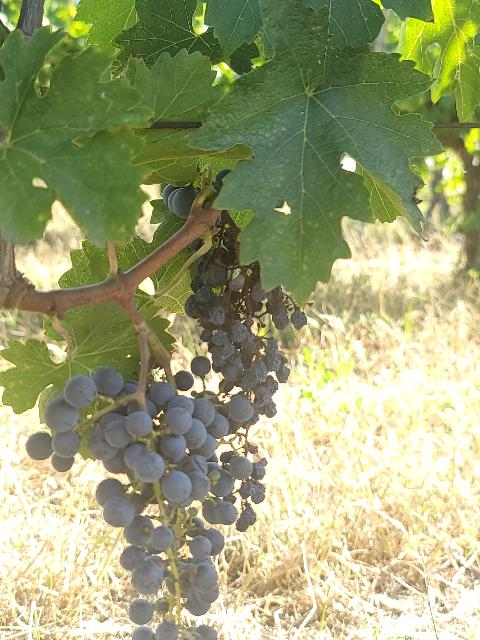grapes: (26, 368, 255, 640), (185, 212, 306, 428)
